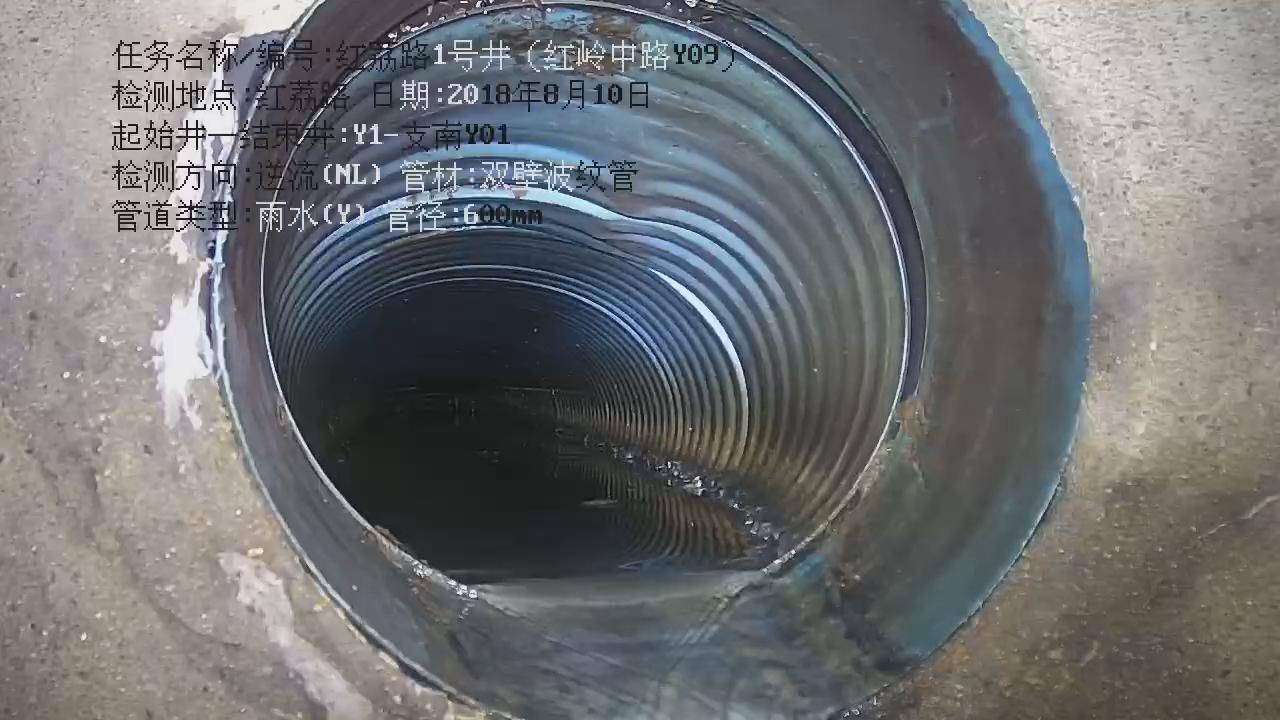BX: (487, 105, 795, 352)
CKTJ: (258, 0, 941, 586)
